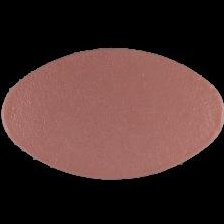50090-1277: (0, 0, 224, 224)
